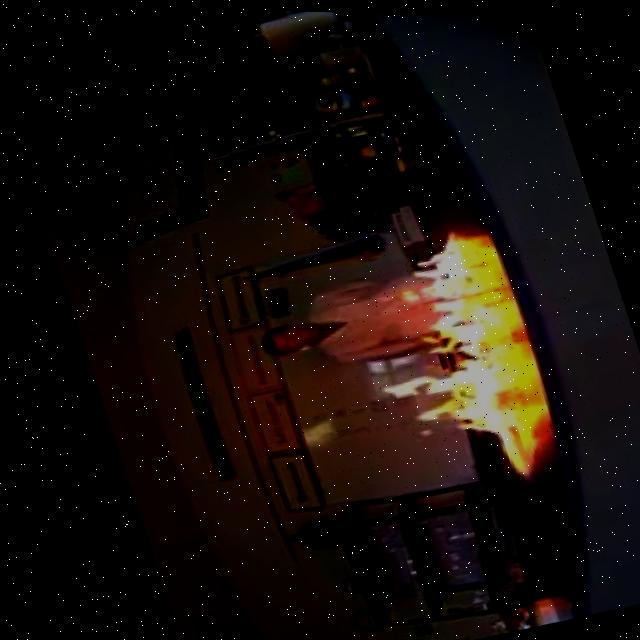Smoke: (326, 218, 533, 506)
